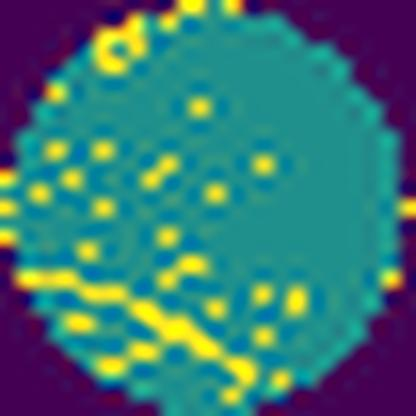Scratch: (14, 265, 260, 407)
